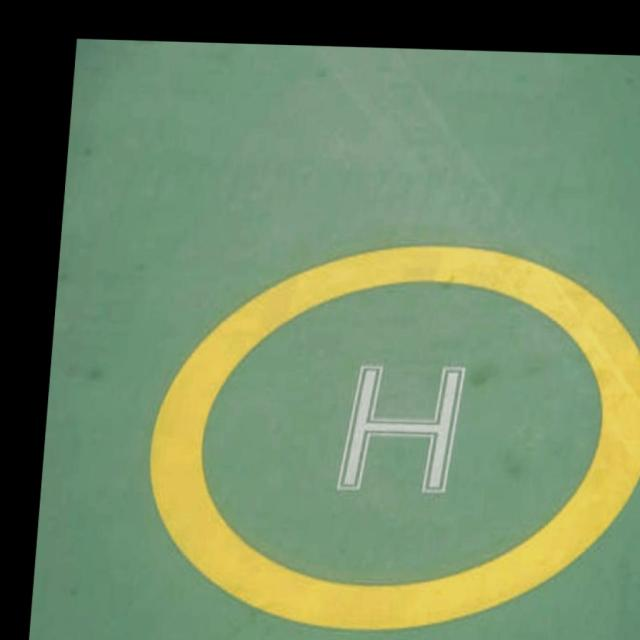helipad: (136, 232, 640, 637)
